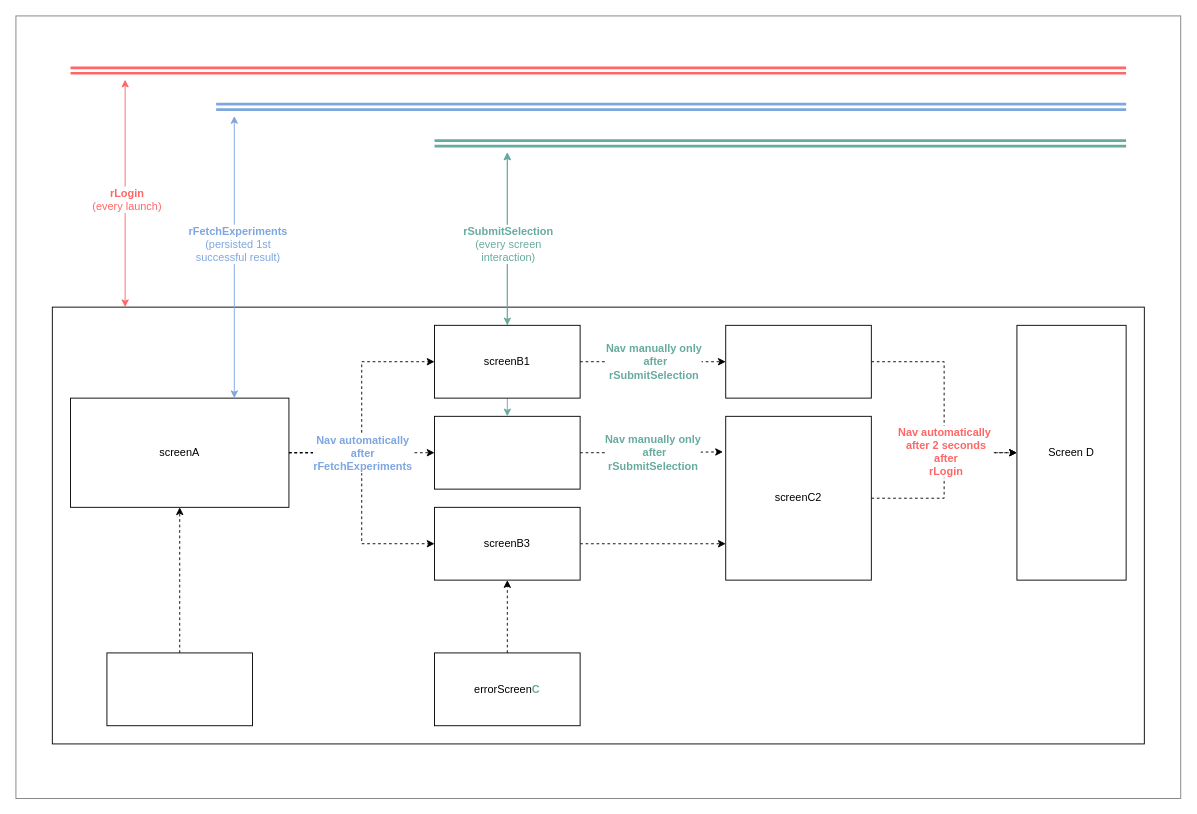
Image size: 1197x814. Some labels were removed from this diagram. The box of each missing label's shape, as (x1, y1, x2, y2) in pixels:
errorScreen A B: (106, 652, 253, 726)
screenB2: (434, 415, 580, 489)
screenC1: (725, 324, 871, 398)
